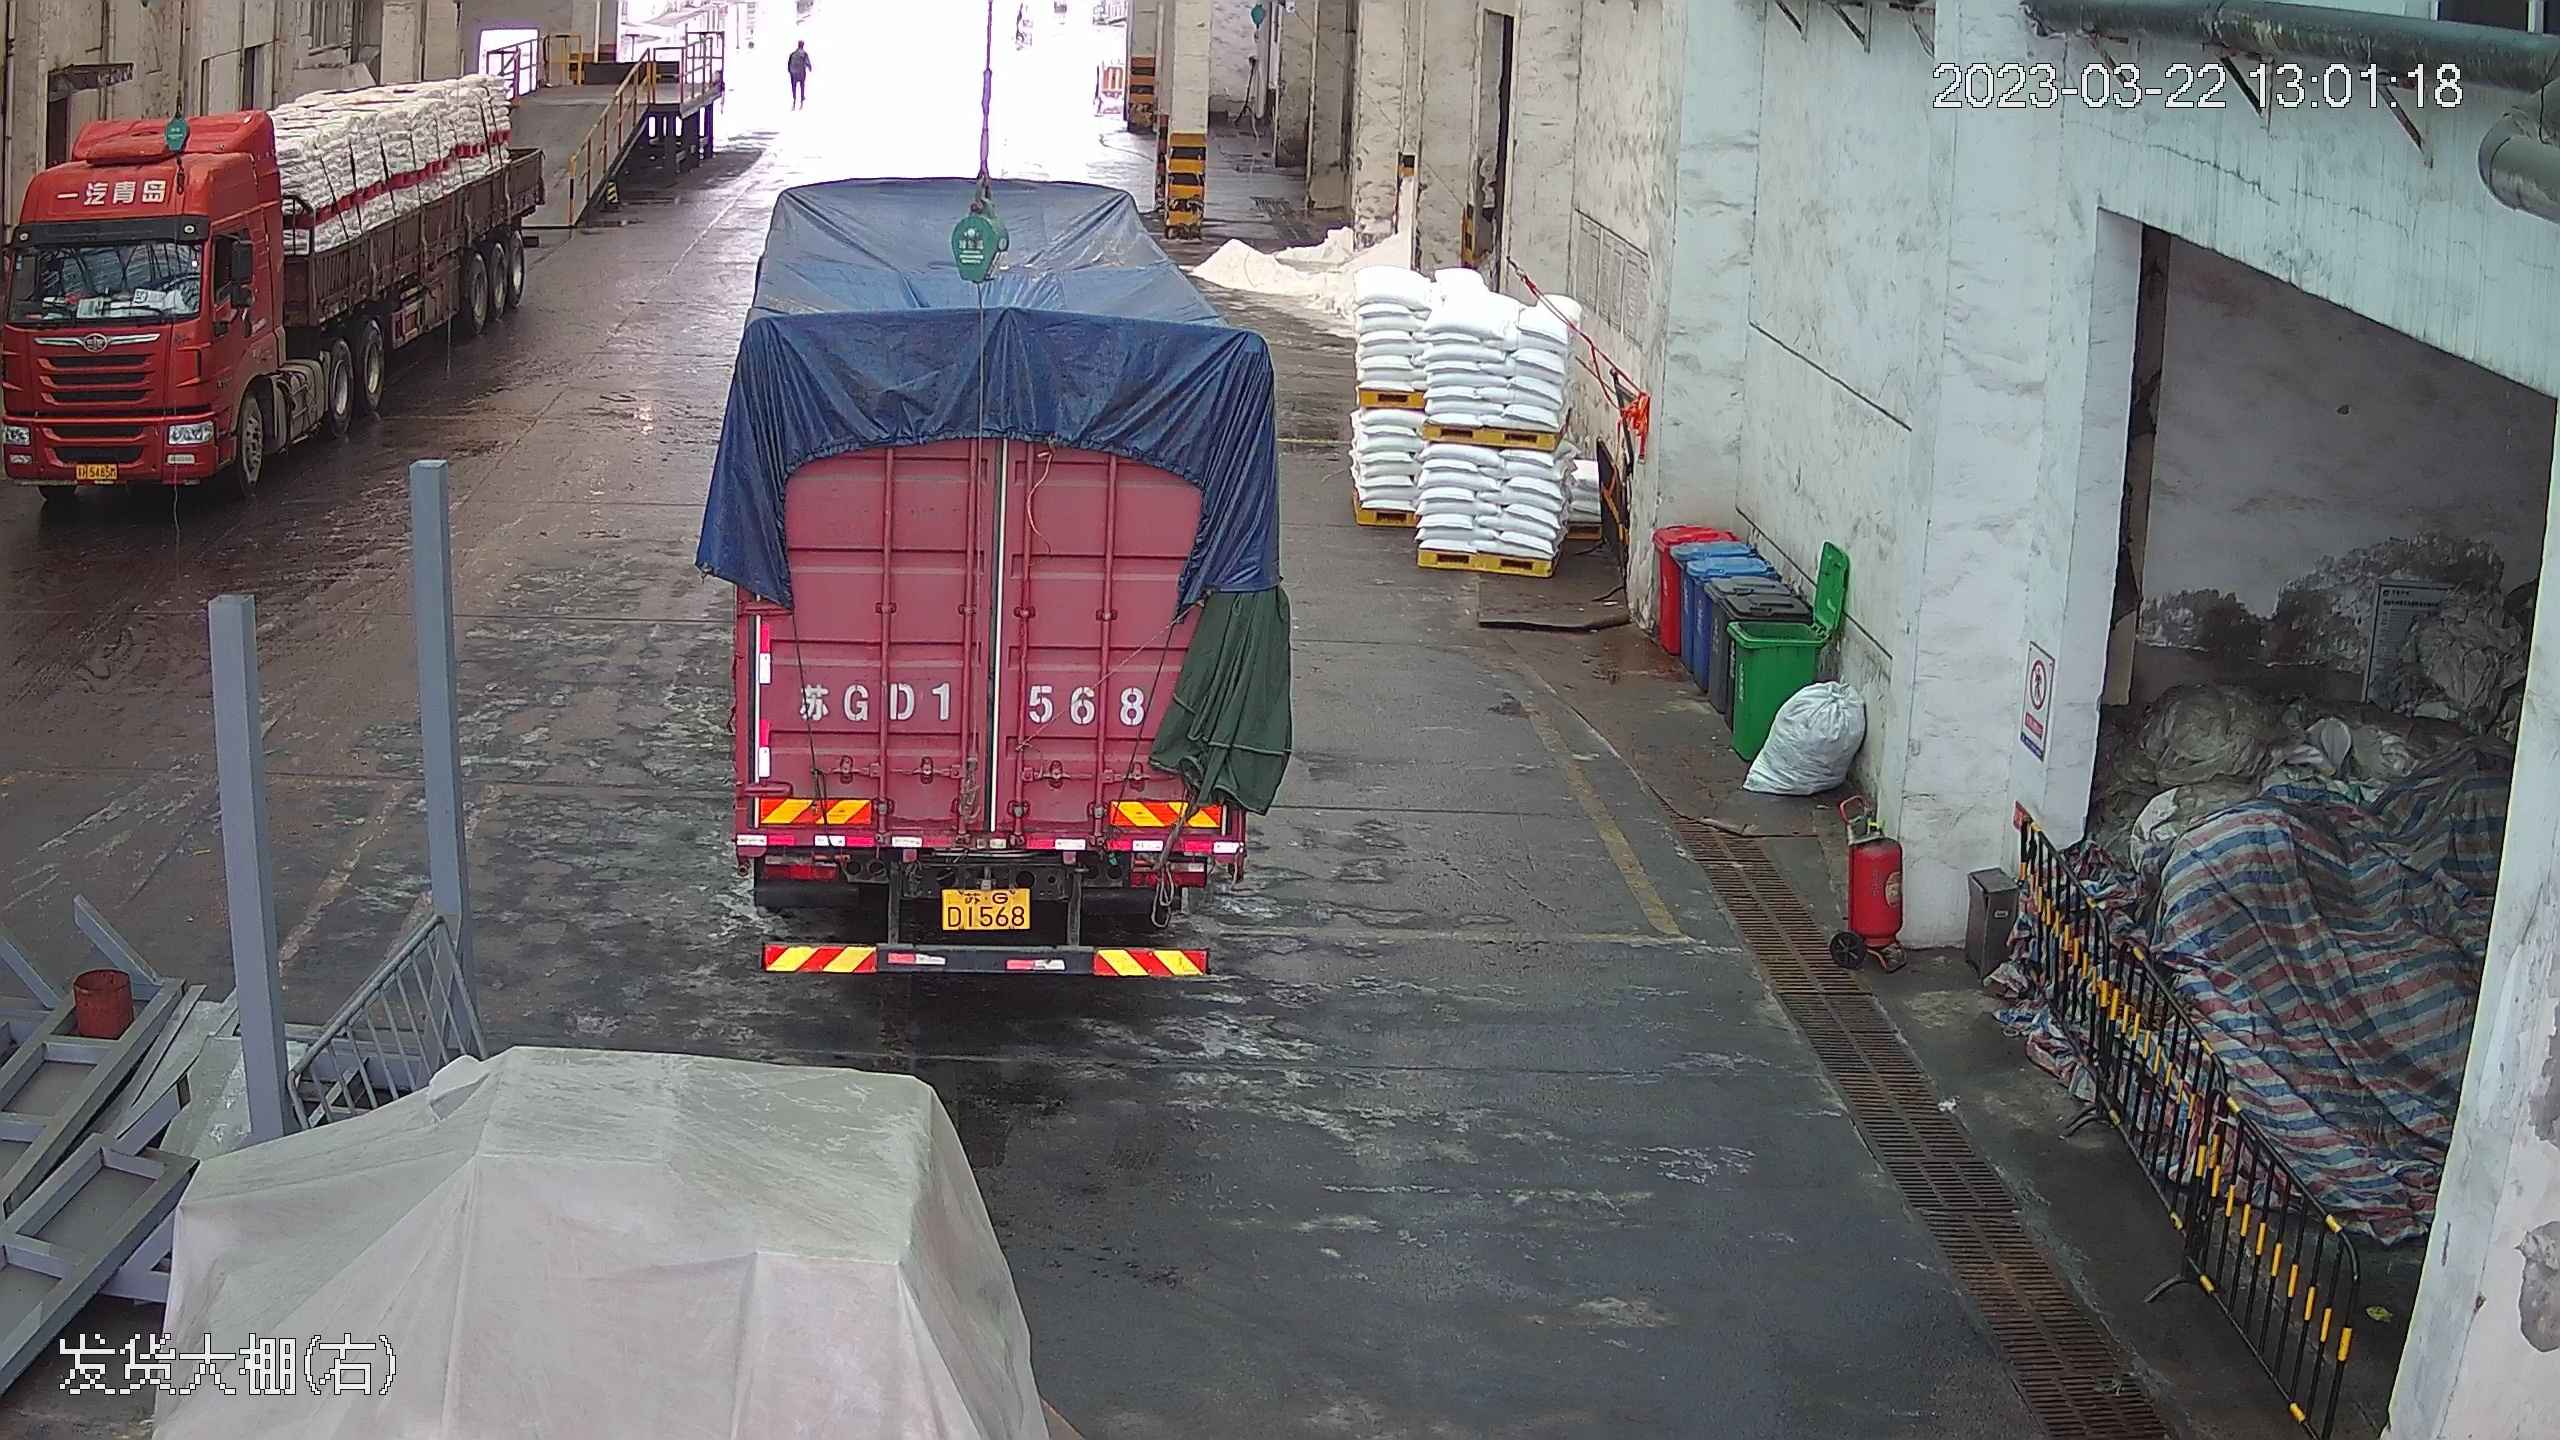people: (784, 39, 812, 113)
truck: (697, 118, 1294, 995), (1, 68, 613, 504)
